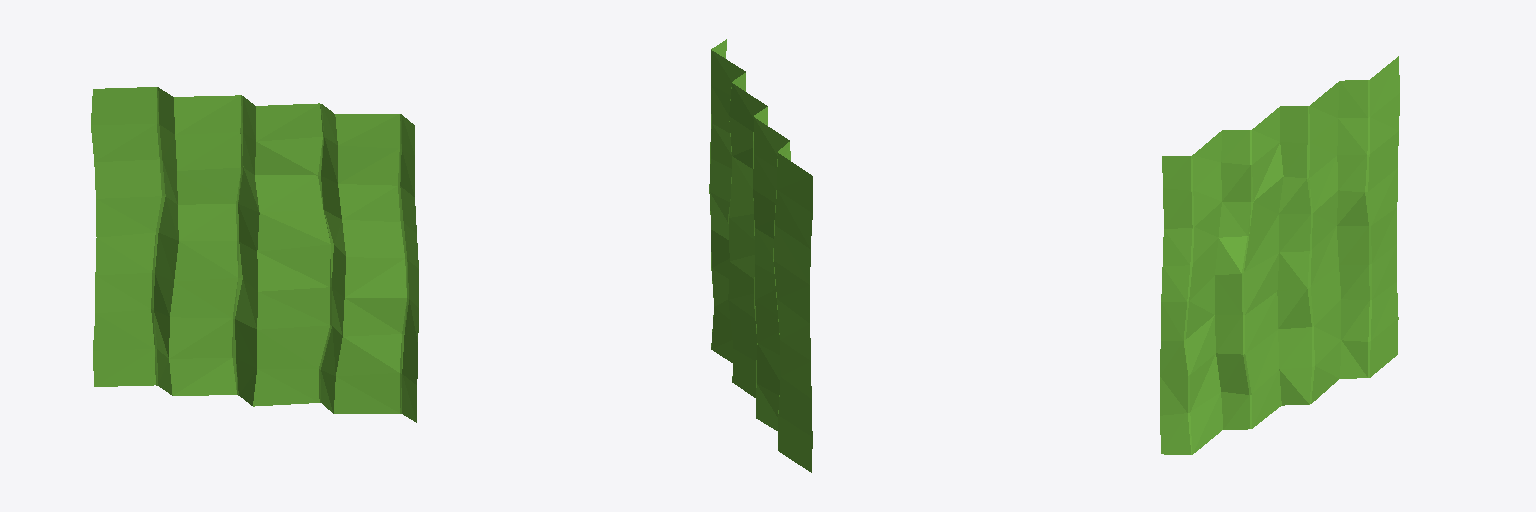
The model's file is kit_40x40m_terrain_0114.obj.
3 views of the same model, side by side, from view 1: azimuth 30°, elevation 25°; view 2: azimuth 150°, elevation 25°; view 3: azimuth 270°, elevation 25° (orthographic).
Parts seen in each view (by area): view 1: kit_40x40m_terrain_0114; view 2: kit_40x40m_terrain_0114; view 3: kit_40x40m_terrain_0114.
Part boxes in pixels (x1,y1,x2,y2): kit_40x40m_terrain_0114: (91,87,418,422); kit_40x40m_terrain_0114: (709,39,812,472); kit_40x40m_terrain_0114: (1160,56,1399,454).
Bounding box in the file's own units: 0.0576 × 0.079 × 0.0572.